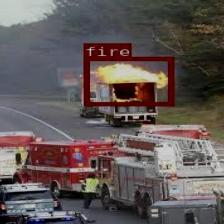fire: (83, 57, 172, 105)
